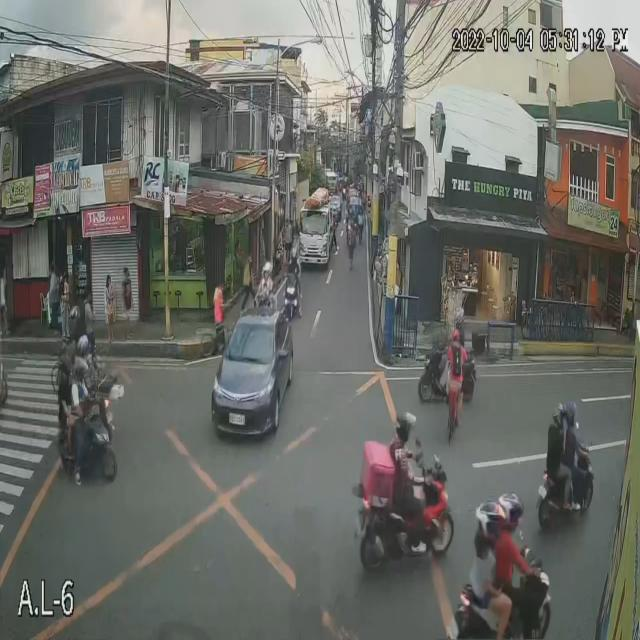full: (474, 496, 506, 549), (499, 493, 522, 532), (72, 357, 88, 385), (553, 401, 565, 426), (566, 403, 577, 429), (453, 307, 465, 329), (69, 306, 79, 326)
half: (396, 412, 418, 443), (76, 335, 88, 357), (262, 265, 270, 279)
